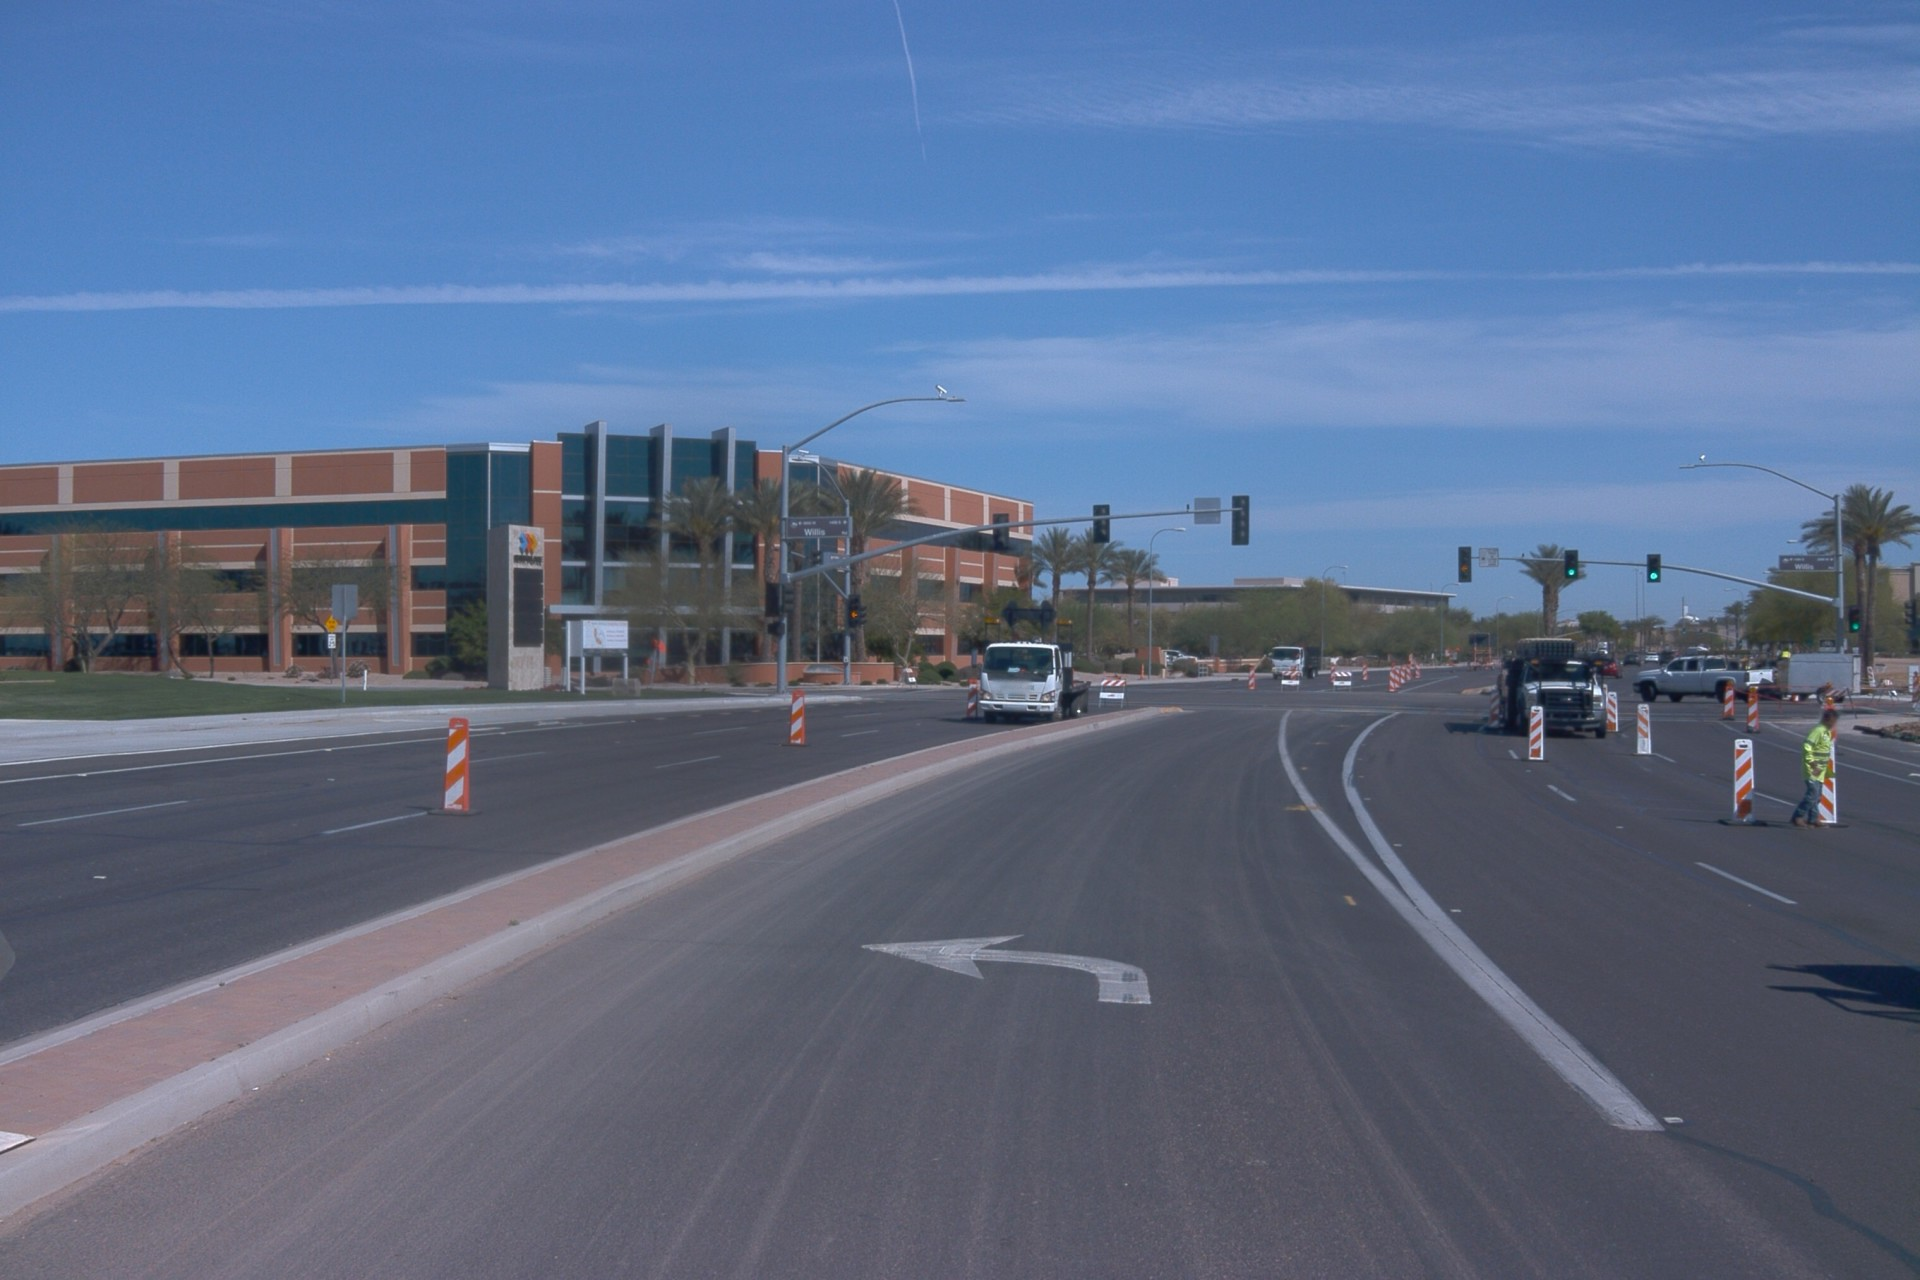TYPE_PEDESTRIAN: (1788, 708, 1841, 831)
TYPE_VEHICLE: (1494, 634, 1613, 742), (970, 628, 1093, 722), (1629, 649, 1778, 709), (1777, 642, 1866, 708), (1266, 643, 1324, 680), (1596, 655, 1629, 682), (1159, 648, 1199, 667), (1623, 651, 1643, 670), (1656, 647, 1676, 666), (1643, 648, 1662, 666), (1493, 671, 1503, 697), (1593, 640, 1609, 656)
